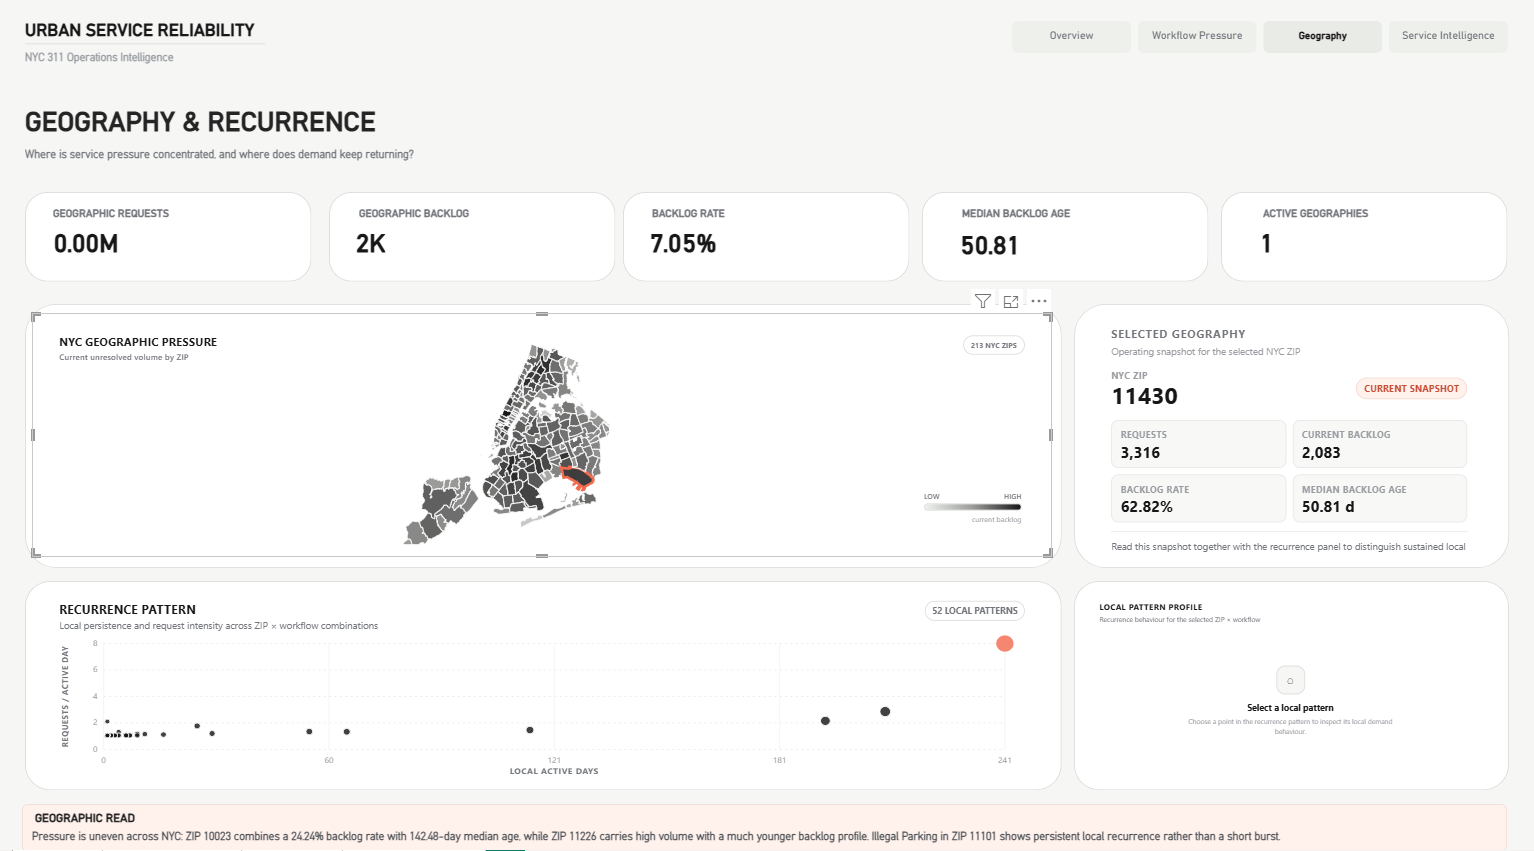

Layout of this report page (visuals, bound fields, positions):
{"tool":"powerbi","page":{"name":"Geography ","canvas":[1920,1080],"ordinal":2},"visuals":[{"type":"textbox","box":[32,25,390,44],"z":0},{"type":"textbox","box":[32,61,300,25],"z":1000},{"type":"shape","box":[32.3,46.6,300.2,16.8],"z":2000},{"type":"pageNavigator","box":[1266.6,25.9,620,40],"z":3000},{"type":"textbox","box":[32,132,600,52],"z":4000},{"type":"textbox","box":[32,182,760,30],"z":5000},{"type":"shape","box":[32,240,358,112],"z":6000},{"type":"shape","box":[412.6,240.2,358,112],"z":7000},{"type":"shape","box":[780,240,358,112],"z":8000},{"type":"shape","box":[1154,240,358,112],"z":9000},{"type":"shape","box":[1528,240,358,112],"z":10000},{"type":"shape","box":[32,380,1296,330],"z":11000},{"type":"shape","box":[29.1,1004.4,1856,60],"z":12000},{"type":"cardVisual","fields":{"Data":["Measures (2).Geographic Requests"]},"box":[52,270,310,66],"z":13000},{"type":"textbox","box":[67.3,256.2,249.7,27.2],"z":14000},{"type":"cardVisual","fields":{"Data":["Measures (2).Geographic Backlog"]},"box":[430.3,269.7,288.8,66.3],"z":15000},{"type":"textbox","box":[449.4,256.4,250.5,30.9],"z":16000},{"type":"cardVisual","fields":{"Data":["Measures (2).Backlog Rate"]},"box":[797.2,269.7,288.8,66.3],"z":17000},{"type":"textbox","box":[816.3,256.4,250.5,30.9],"z":18000},{"type":"cardVisual","fields":{"Data":["Measures (2).Median Backlog Age"]},"box":[1184.7,272.6,288.8,66.3],"z":19000},{"type":"cardVisual","fields":{"Data":["Measures (2).Active Geographies"]},"box":[1560.5,269.7,288.8,66.3],"z":20000},{"type":"textbox","box":[1203.2,256.2,251,31.1],"z":21000},{"type":"textbox","box":[1579.6,256.4,250.5,30.9],"z":22000},{"type":"textbox","box":[41.6,1012.7,150,22],"z":23000},{"type":"textbox","box":[41.6,1034.9,1655,34.7],"z":24000},{"type":"shape","box":[1344,380,544,330],"z":25000},{"type":"shape","box":[32.3,725.7,1295.7,261.5],"z":26000},{"type":"shape","box":[1344.1,725.7,543.5,261.5],"z":27000},{"type":"geographyMapVisual4415833F48604CCCAF91A2C5E1E00002","fields":{"zip":["DimGeography.IncidentZIP"],"requests":["Measures (2).Geographic Requests"],"currentBacklog":["Measures (2).Geographic Backlog"],"backlogRate":["Measures (2).Geographic Backlog Rate"],"medianBacklogAge":["Measures (2).Median Backlog Age"]},"box":[41.6,391.2,1274.9,305.2],"z":27001},{"type":"selectedGeographyProfileVisualACB5162A118741A9B6F0111B958587","fields":{"zip":["DimGeography.IncidentZIP"],"requests":["Measures (2).Geographic Requests"],"currentBacklog":["Measures (2).Geographic Backlog"],"backlogRate":["Measures (2).Geographic Backlog Rate"],"medianBacklogAge":["Measures (2).Median Backlog Age"]},"box":[1356.8,380.1,513.3,330.2],"z":27002},{"type":"recurrencePatternVisual3A60C7D067884842BB7BD1C684BE94F9","fields":{"zip":["DimGeography.IncidentZIP"],"workflowId":["DimWorkflow.WorkflowID"],"agency":["DimWorkflow.agency"],"service":["DimWorkflow.service_problem"],"requests":["Measures (2).Geographic Requests"],"activeDays":["Measures (2).Local Active Days"],"requestsPerActiveDay":["Measures (2).Local Requests per Active Day"],"topDayShare":["Measures (2).Local Top-Day Share"]},"box":[41.6,725.5,1274.9,260.8],"z":27003},{"type":"localPatternProfileVisual1B868A67018B4E1D8CE08ED776A9F178","fields":{"zip":["DimGeography.IncidentZIP"],"workflowId":["DimWorkflow.WorkflowID"],"agency":["DimWorkflow.agency"],"service":["DimWorkflow.service_problem"],"requests":["Measures (2).Geographic Requests"],"activeDays":["Measures (2).Local Active Days"],"requestsPerActiveDay":["Measures (2).Local Requests per Active Day"],"topDayShare":["Measures (2).Local Top-Day Share"]},"box":[1344.3,725.5,541,278.8],"z":27004}]}

Visuals, with their boxes in screenshot pixels (x1, y1, x2, y2), scaled from the page's 1920x1080 canvas onto the 1534x851 screenshot:
textbox: x1=26, y1=20, x2=337, y2=54
textbox: x1=26, y1=48, x2=265, y2=68
shape: x1=26, y1=37, x2=266, y2=50
pageNavigator: x1=1012, y1=20, x2=1507, y2=52
textbox: x1=26, y1=104, x2=505, y2=145
textbox: x1=26, y1=143, x2=633, y2=167
shape: x1=26, y1=189, x2=312, y2=277
shape: x1=330, y1=189, x2=616, y2=278
shape: x1=623, y1=189, x2=909, y2=277
shape: x1=922, y1=189, x2=1208, y2=277
shape: x1=1221, y1=189, x2=1507, y2=277
shape: x1=26, y1=299, x2=1061, y2=559
shape: x1=23, y1=791, x2=1506, y2=839
cardVisual - Measures (2).Geographic Requests: x1=42, y1=213, x2=289, y2=265
textbox: x1=54, y1=202, x2=253, y2=223
cardVisual - Measures (2).Geographic Backlog: x1=344, y1=213, x2=575, y2=265
textbox: x1=359, y1=202, x2=559, y2=226
cardVisual - Measures (2).Backlog Rate: x1=637, y1=213, x2=868, y2=265
textbox: x1=652, y1=202, x2=852, y2=226
cardVisual - Measures (2).Median Backlog Age: x1=947, y1=215, x2=1177, y2=267
cardVisual - Measures (2).Active Geographies: x1=1247, y1=213, x2=1478, y2=265
textbox: x1=961, y1=202, x2=1162, y2=226
textbox: x1=1262, y1=202, x2=1462, y2=226
textbox: x1=33, y1=798, x2=153, y2=815
textbox: x1=33, y1=815, x2=1356, y2=843
shape: x1=1074, y1=299, x2=1508, y2=559
shape: x1=26, y1=572, x2=1061, y2=778
shape: x1=1074, y1=572, x2=1508, y2=778
geographyMapVisual4415833F48604CCCAF91A2C5E1E00002 - DimGeography.IncidentZIP x Measures (2).Geographic Requests: x1=33, y1=308, x2=1052, y2=549
selectedGeographyProfileVisualACB5162A118741A9B6F0111B958587 - DimGeography.IncidentZIP x Measures (2).Geographic Requests: x1=1084, y1=300, x2=1494, y2=560
recurrencePatternVisual3A60C7D067884842BB7BD1C684BE94F9 - DimGeography.IncidentZIP x DimWorkflow.WorkflowID: x1=33, y1=572, x2=1052, y2=777
localPatternProfileVisual1B868A67018B4E1D8CE08ED776A9F178 - DimGeography.IncidentZIP x DimWorkflow.WorkflowID: x1=1074, y1=572, x2=1506, y2=791
